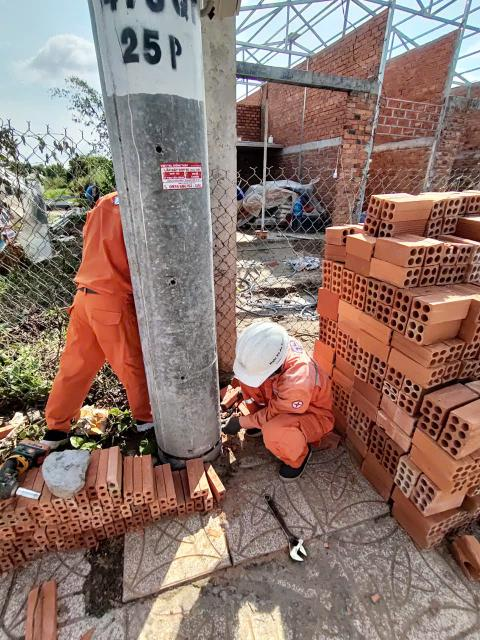gloves: (222, 413, 242, 437)
helmet: (218, 313, 300, 390)
shoes: (281, 439, 313, 484), (43, 423, 81, 455), (135, 413, 165, 436)
